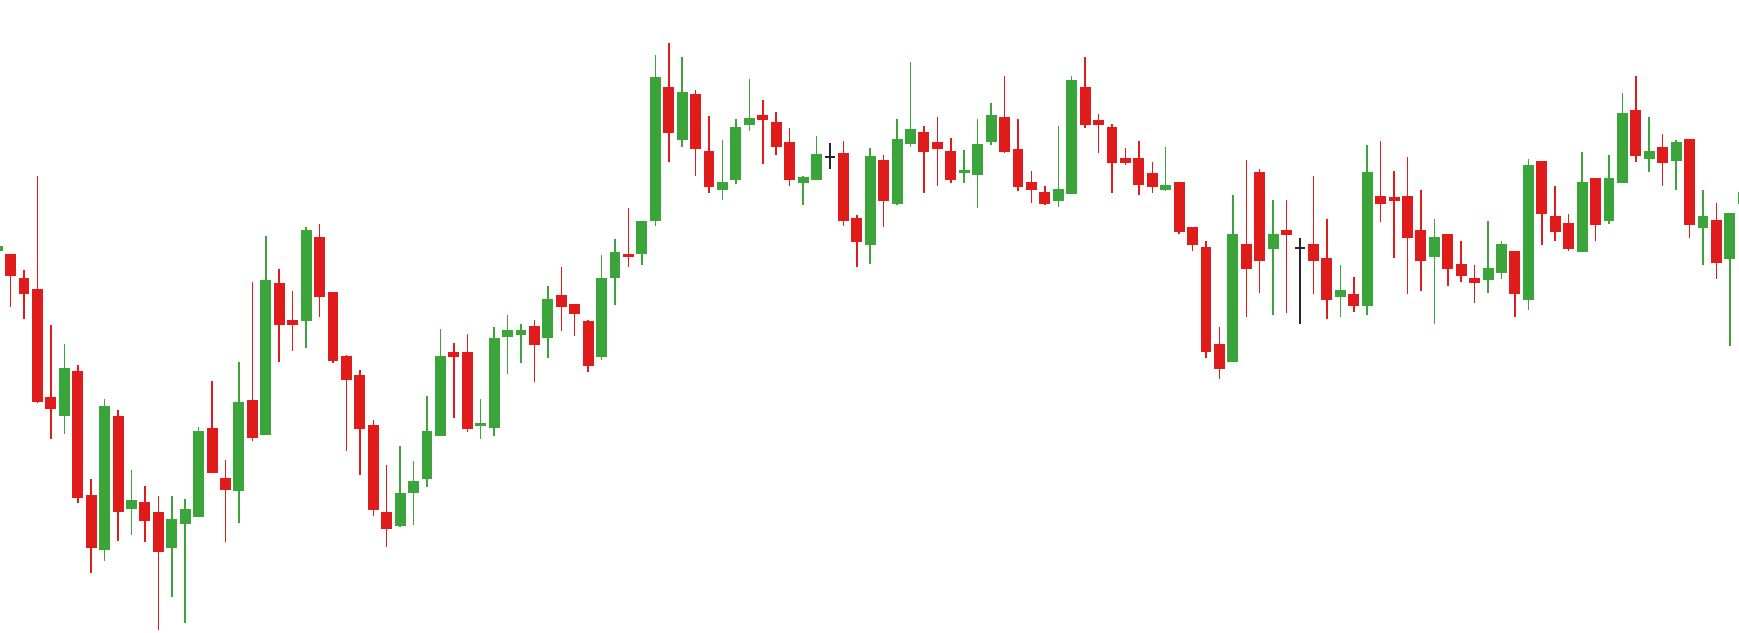buy: (220, 338, 408, 553)
sell: (998, 57, 1094, 175)
